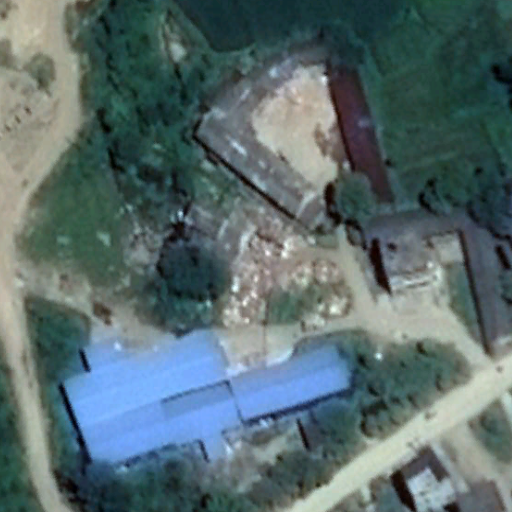msw: (223, 210, 352, 322)
